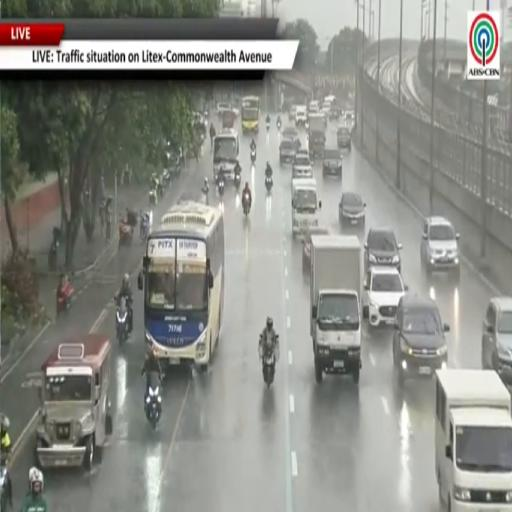bus: (138, 202, 224, 370), (213, 130, 239, 180), (242, 96, 260, 134)
car: (393, 293, 449, 381), (363, 267, 407, 327), (482, 297, 511, 386), (421, 217, 459, 278), (364, 228, 402, 271), (302, 227, 329, 273), (339, 191, 366, 231), (292, 150, 312, 181), (323, 148, 342, 178), (282, 126, 302, 150), (280, 138, 296, 164), (216, 102, 239, 118), (337, 125, 351, 151), (295, 106, 308, 125), (216, 102, 231, 118), (328, 105, 340, 120), (345, 110, 354, 126), (322, 102, 331, 116), (289, 105, 296, 121)
jeepney: (35, 333, 112, 471)
motorcycle: (259, 335, 278, 388), (145, 372, 161, 429), (0, 458, 11, 511), (57, 281, 74, 315), (48, 227, 60, 271), (116, 304, 128, 345), (119, 221, 133, 247), (140, 214, 149, 243), (105, 208, 112, 241), (242, 192, 250, 217), (149, 187, 157, 205), (157, 182, 165, 198), (202, 187, 209, 205), (234, 173, 241, 190), (265, 176, 272, 193), (218, 180, 224, 198), (251, 149, 256, 164), (277, 120, 281, 131), (266, 121, 270, 132)
truck: (435, 368, 511, 511), (310, 235, 362, 383), (308, 114, 326, 157)
